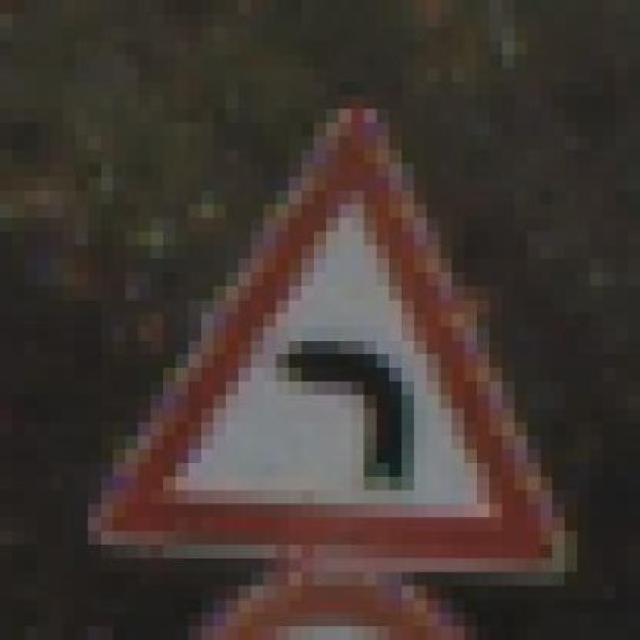Dangerous Left Curve Ahead: (62, 68, 590, 572)
